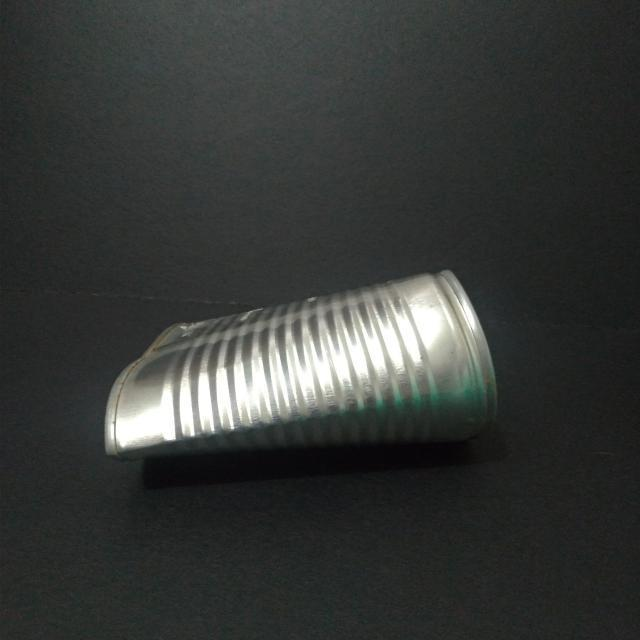metal-can: (98, 260, 504, 463)
